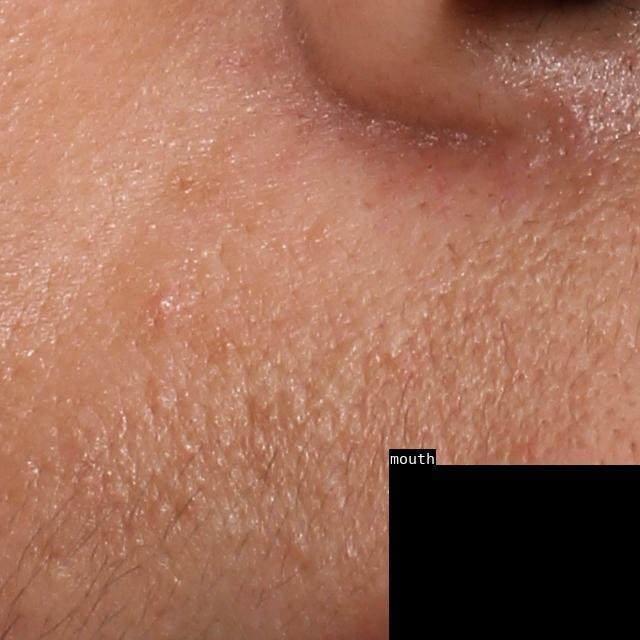comedo: (285, 528, 311, 559), (151, 496, 173, 521)
